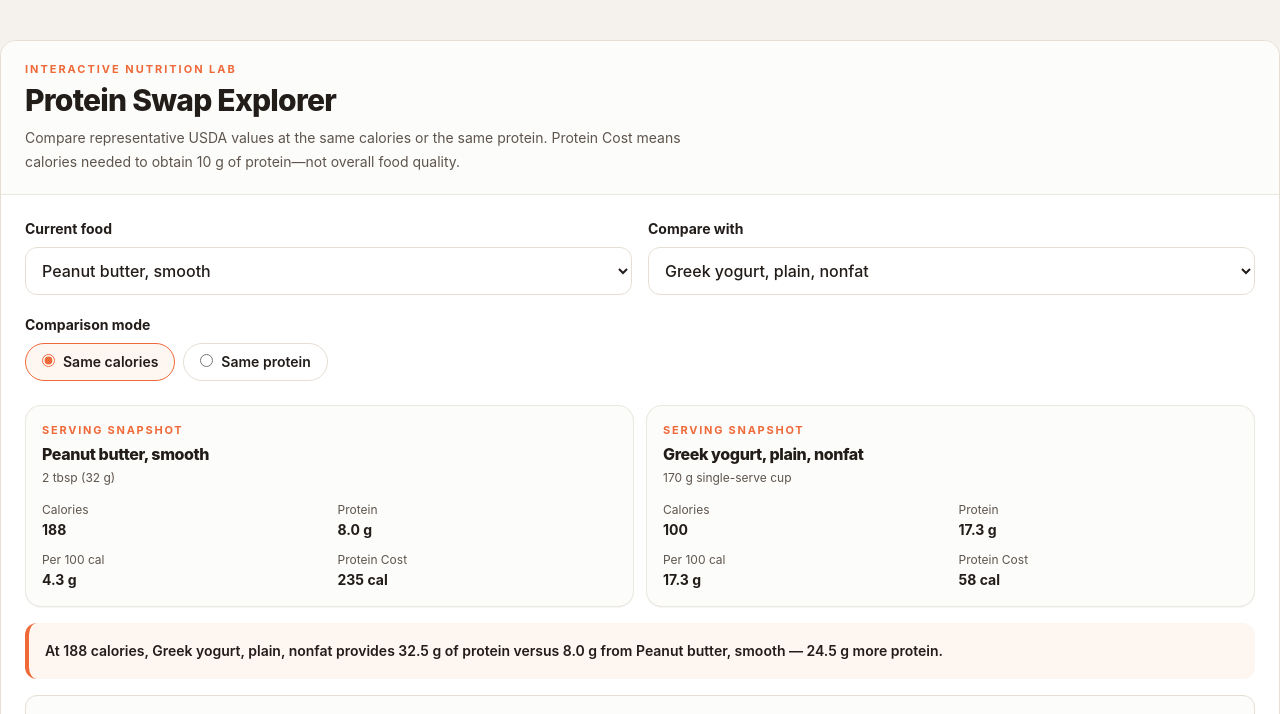
Test: ProteinSwapExplorer › updates the plain-language result in both modes
This screenshot has width=1280, height=714.
Click the radio button labelled "Same protein".
click(207, 360)  # box [200,354,213,366]
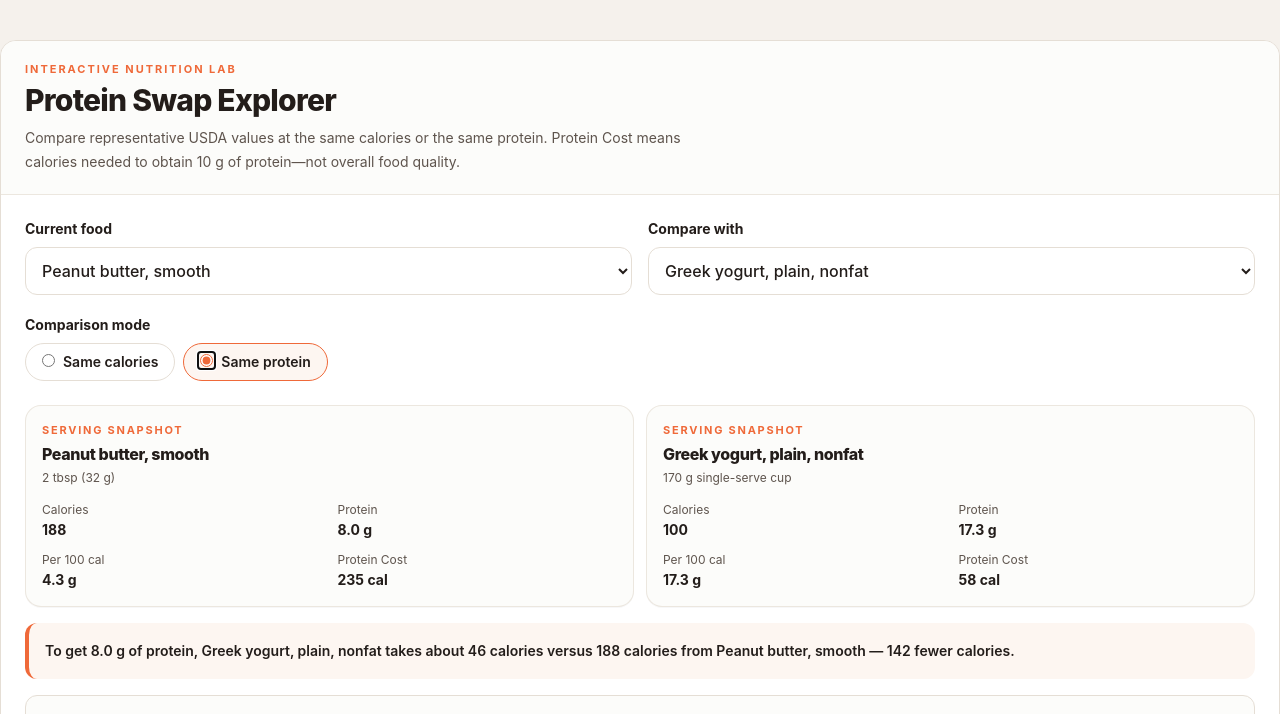
Check: the message shows "about 46 calories", box [45,642,1015,659]
Check: the message shows "142 fewer calories", box [45,642,1015,659]
